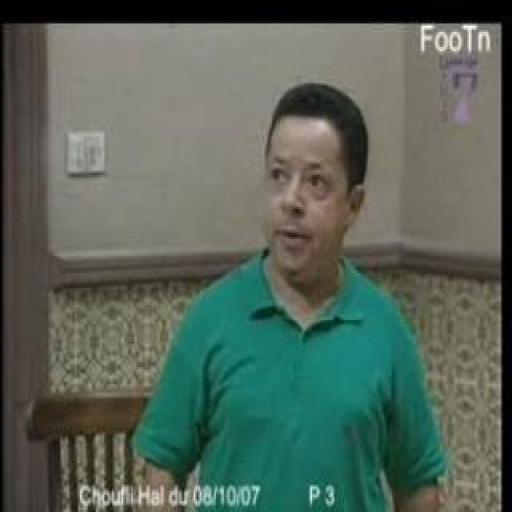fouchika: (266, 84, 369, 287)
